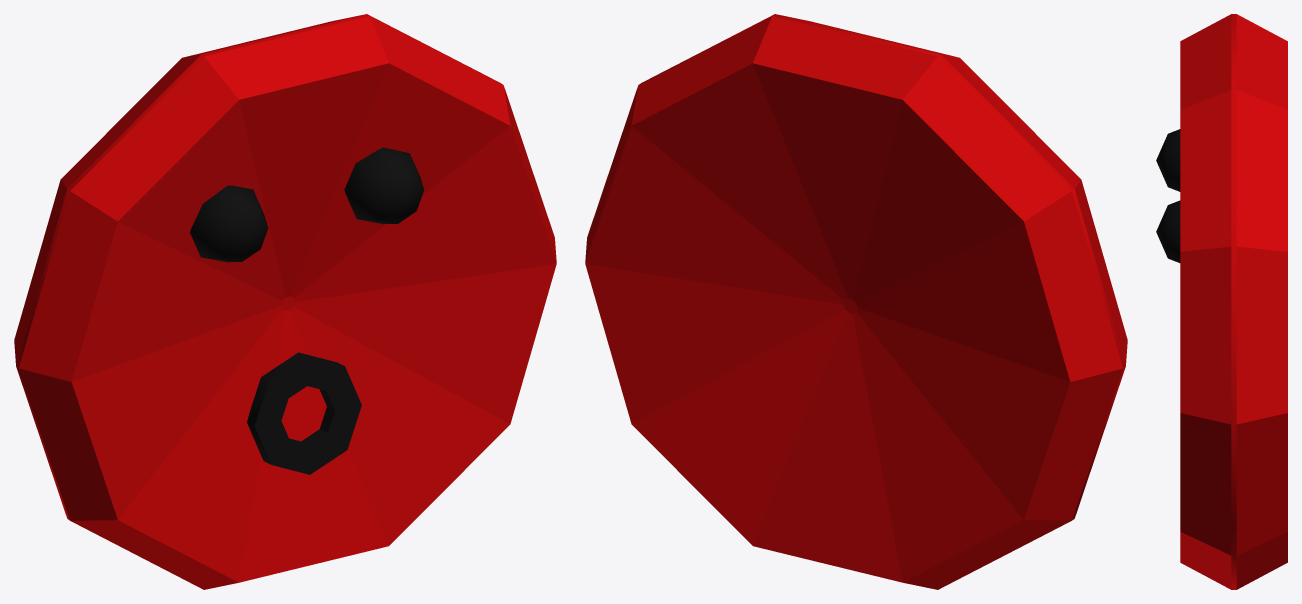
Rendered from Red Blood Cell.fbx.
3 renders of one model, left to right at view 1: azimuth 30°, elevation 25°; view 2: azimuth 150°, elevation 25°; view 3: azimuth 270°, elevation 25°, orthographic. The views are drawn at different scales.
Visible parts, largest first — view 1: Cylinder001; view 2: Cylinder001; view 3: Cylinder001.
Boxes of the visible parts, box(x1,y1,x2,y2) form: Cylinder001: box(14, 14, 556, 589); Cylinder001: box(585, 14, 1127, 589); Cylinder001: box(1156, 14, 1287, 589).
Bounding box in the file's own units: 16.18 × 15.39 × 3.68.
